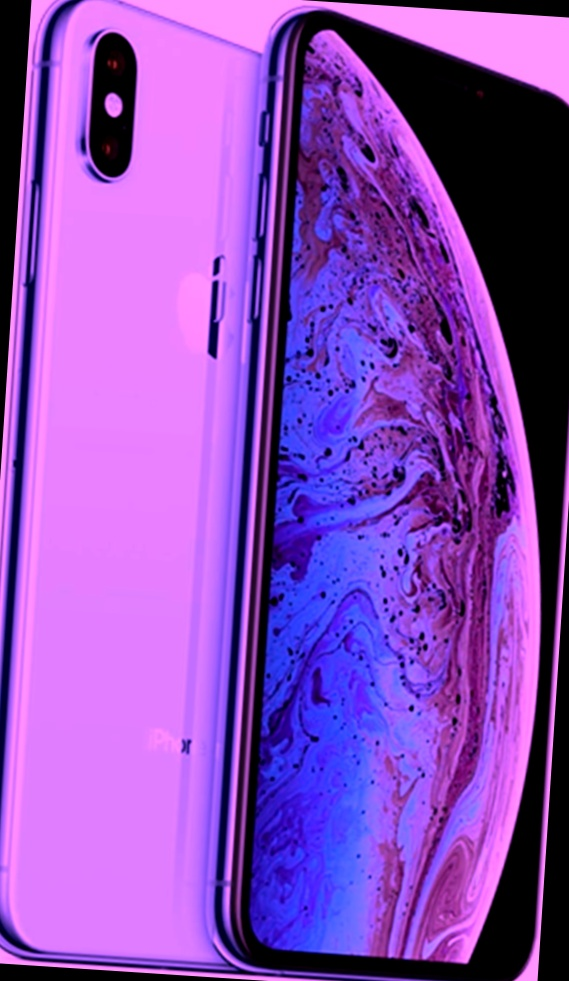iphone: (234, 5, 569, 975)
